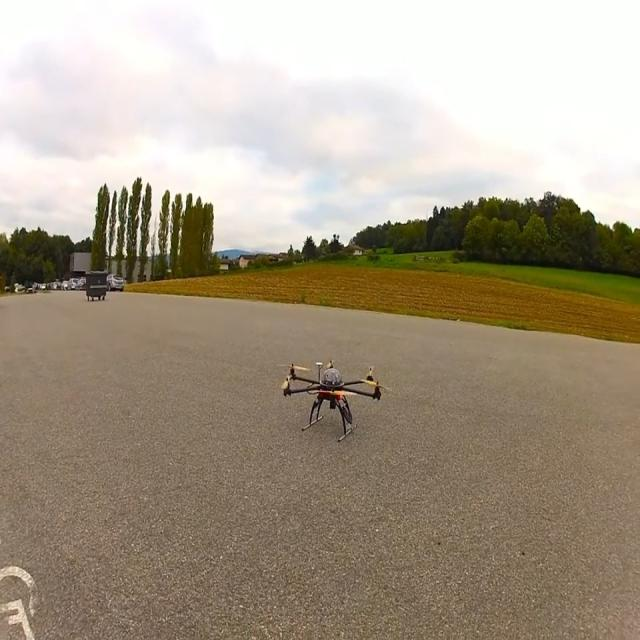drone: (277, 358, 390, 442)
